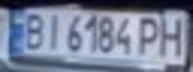1: (81, 14, 100, 53)
4: (115, 15, 139, 55)
6: (63, 11, 84, 52)
8: (97, 14, 118, 54)
B: (18, 10, 48, 51)
H: (154, 15, 190, 56)
I: (39, 11, 66, 52)
P: (133, 14, 166, 56)
